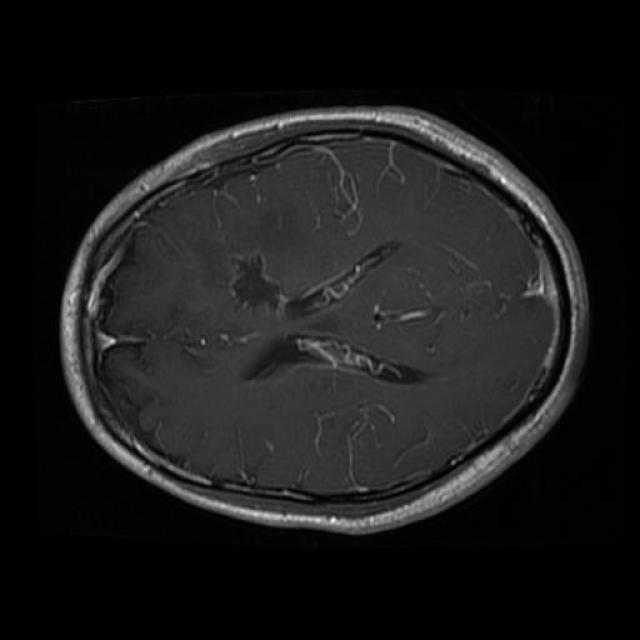Glioma: (231, 254, 291, 310)
